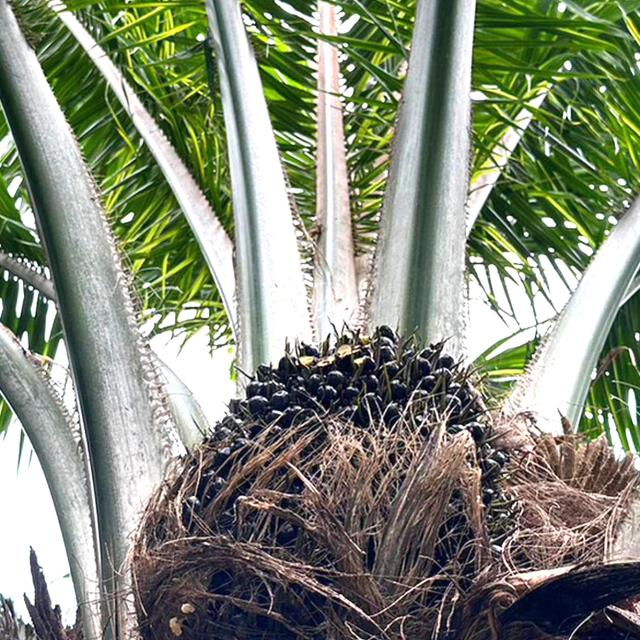unripe: (131, 313, 528, 640)
